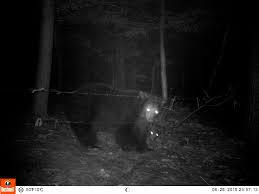bear: (43, 85, 166, 156), (115, 126, 163, 149)
